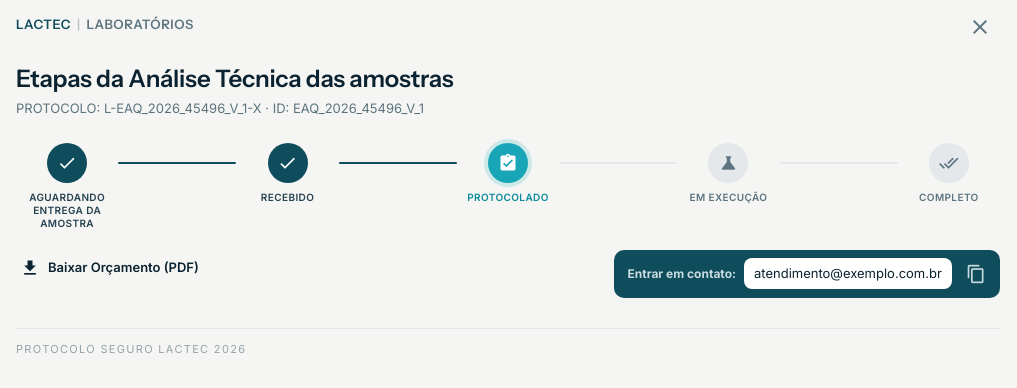
Scenario: ProposalStatusDialogComponent, contato e download › quando a área de transferência recusa, manda copiar pela caixa
Click the button with class "status-dialog-contact__copy": (976, 274) [960,258,992,290]
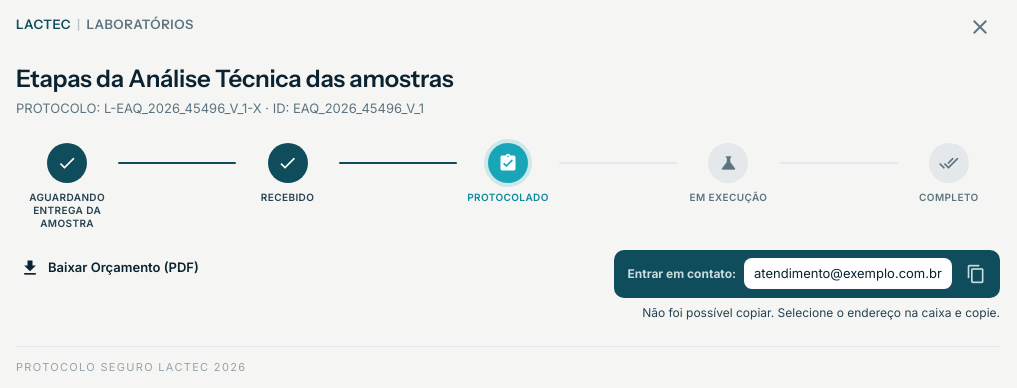
Expected: the text "Selecione o endereço na caixa" is shown, [642,304,1000,320]
